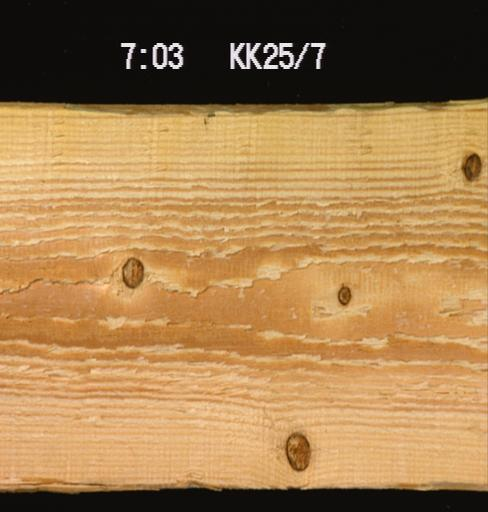dry_knot: (118, 254, 145, 288), (457, 148, 483, 183), (333, 282, 352, 307)
wave: (0, 472, 482, 495), (0, 101, 394, 126)
